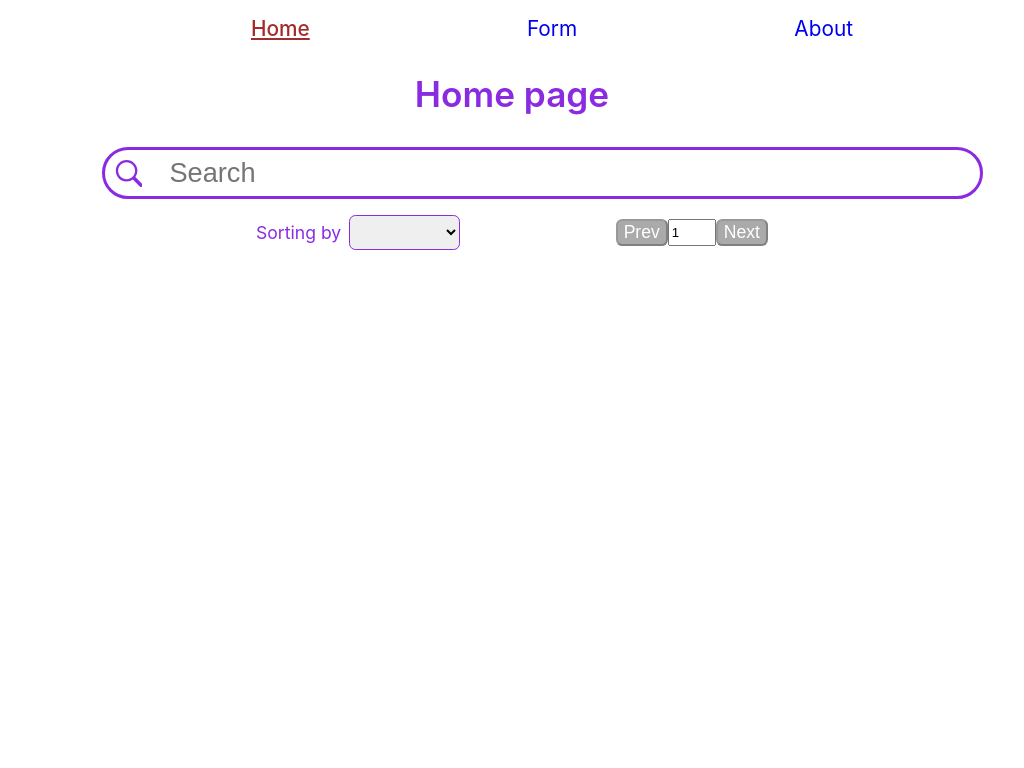
Test case: Check Birthday › check of the rendering Birthday field
Click the link with test id "formPageLink". click: (552, 28)
box: x1=527 y1=16 x2=577 y2=41
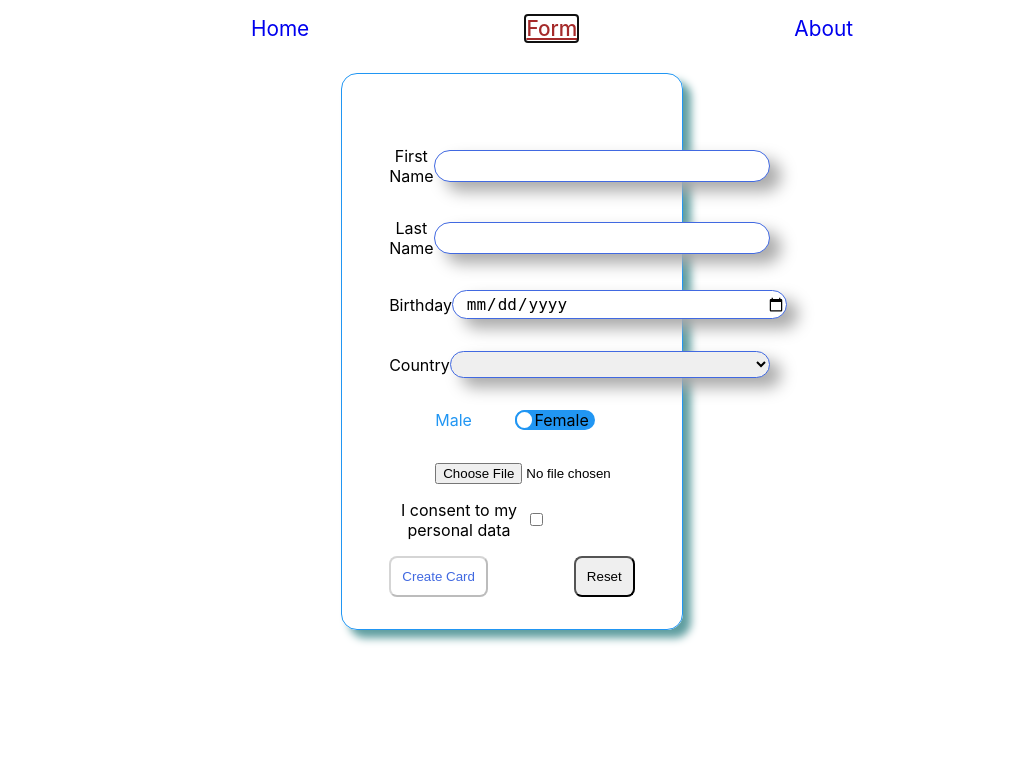
Check: the text "Birthday" is shown, box x1=389 y1=295 x2=452 y2=315
